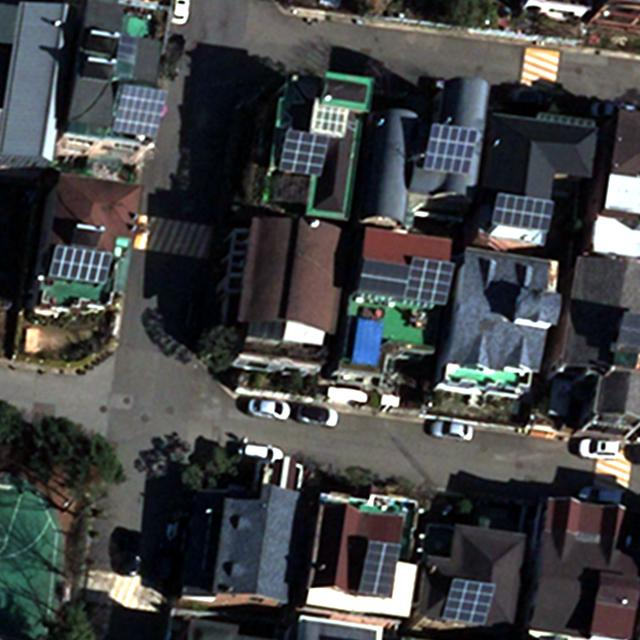panel: (418, 118, 479, 180), (437, 573, 497, 627), (278, 123, 330, 183), (112, 77, 162, 138), (47, 240, 113, 285), (491, 188, 557, 232), (405, 252, 455, 308), (360, 536, 399, 600), (356, 257, 410, 302)
